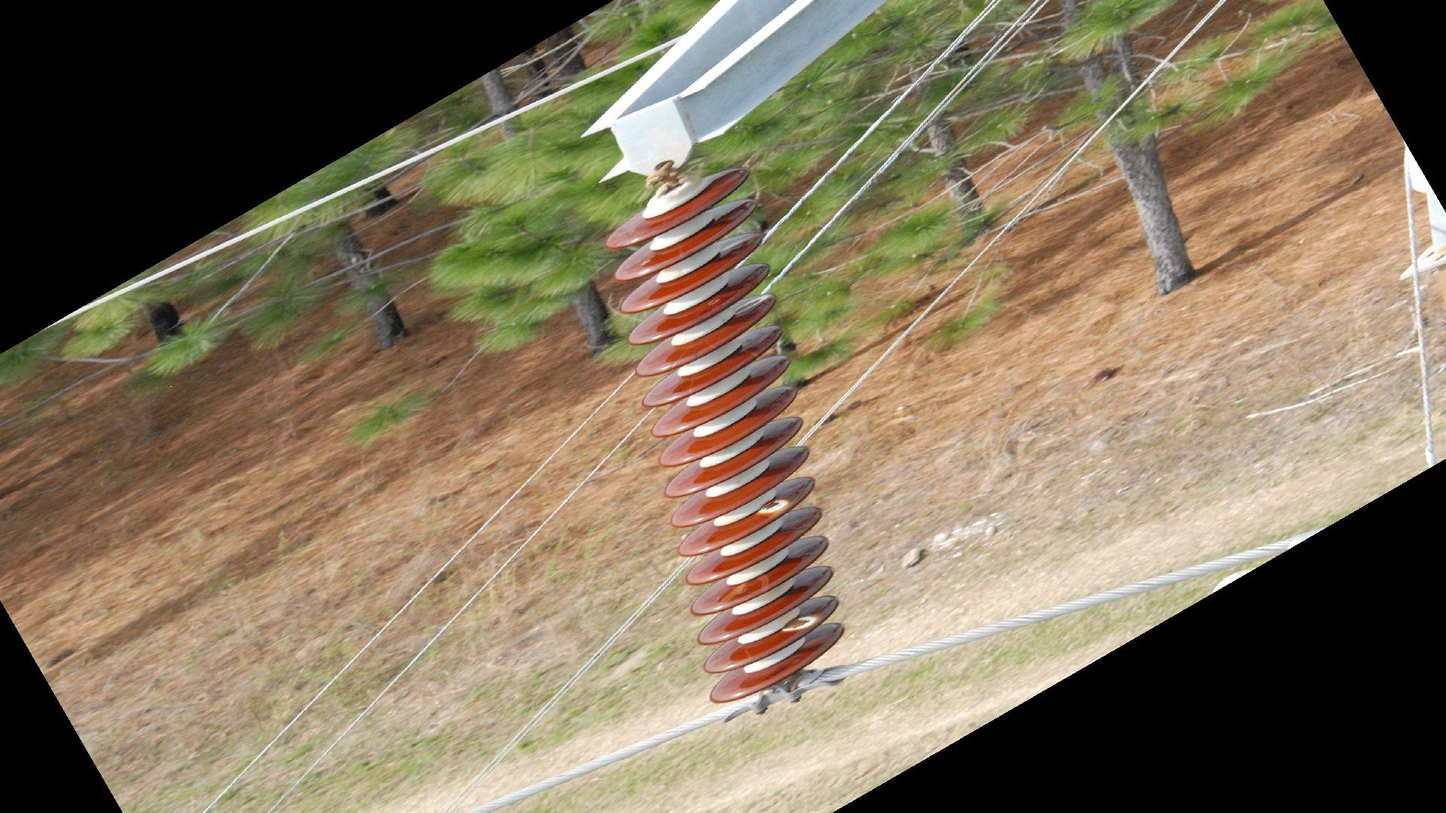insulator: (600, 163, 853, 712)
insulator_flashover: (779, 611, 820, 634), (755, 495, 791, 519), (733, 294, 767, 318)
